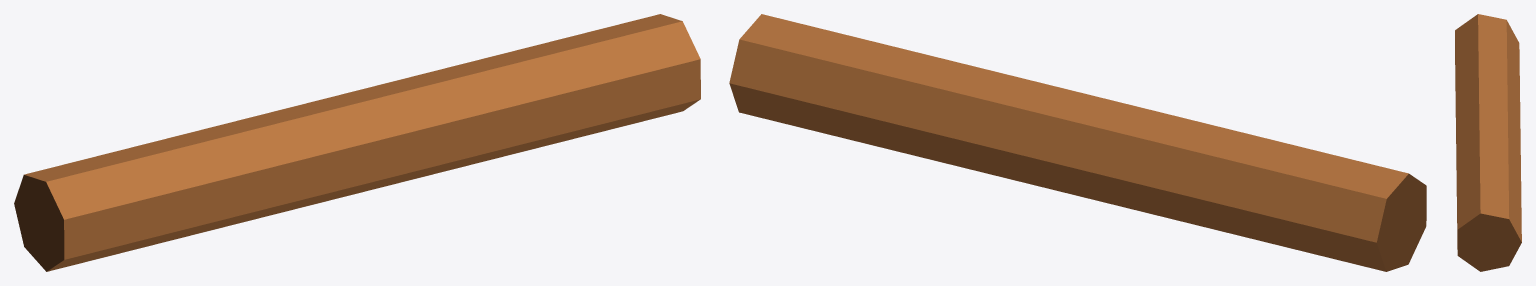
Rendered from log_big.fbx.
The picture shows the model from 3 angles, left to right: view 1: azimuth 30°, elevation 25°; view 2: azimuth 150°, elevation 25°; view 3: azimuth 270°, elevation 25°; orthographic projection. The views are drawn at different scales.
Parts seen in each view (by area): view 1: log_big; view 2: log_big; view 3: log_big.
Part boxes in pixels (bbox=[...]): log_big: bbox=[14, 14, 700, 271]; log_big: bbox=[729, 14, 1426, 271]; log_big: bbox=[1455, 14, 1521, 271].
Bounding box in the file's own units: 5 × 0.7 × 0.7.
